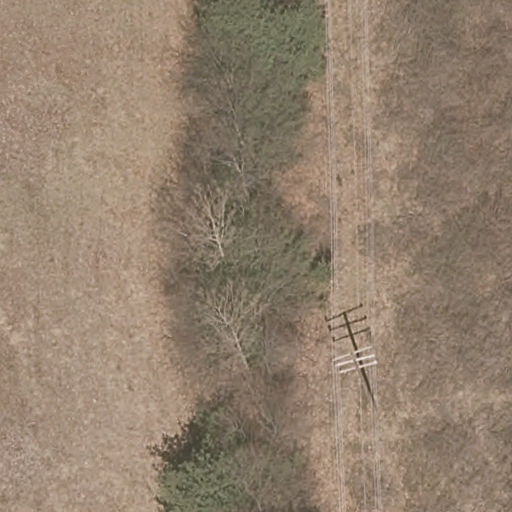DT: (333, 344, 378, 395)
